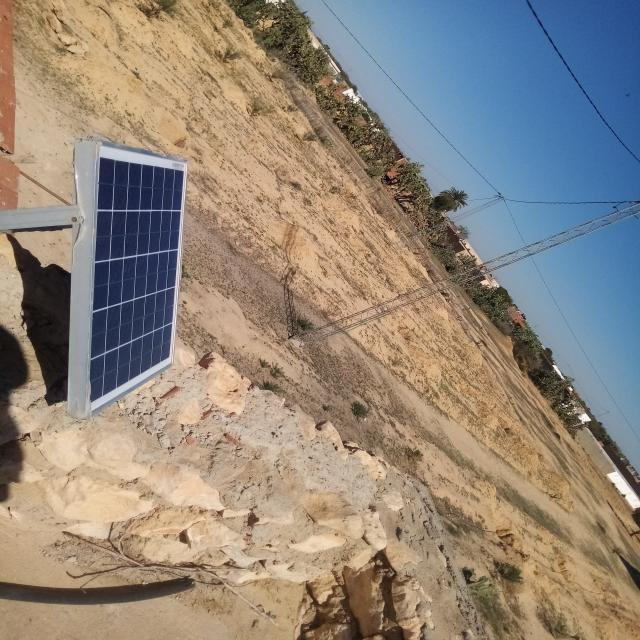no faulty: (89, 143, 189, 416)
